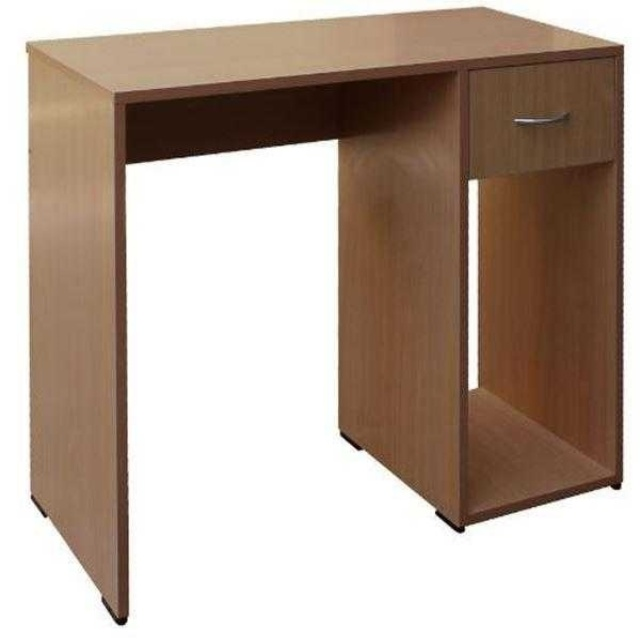obstacle: (28, 8, 623, 622)
